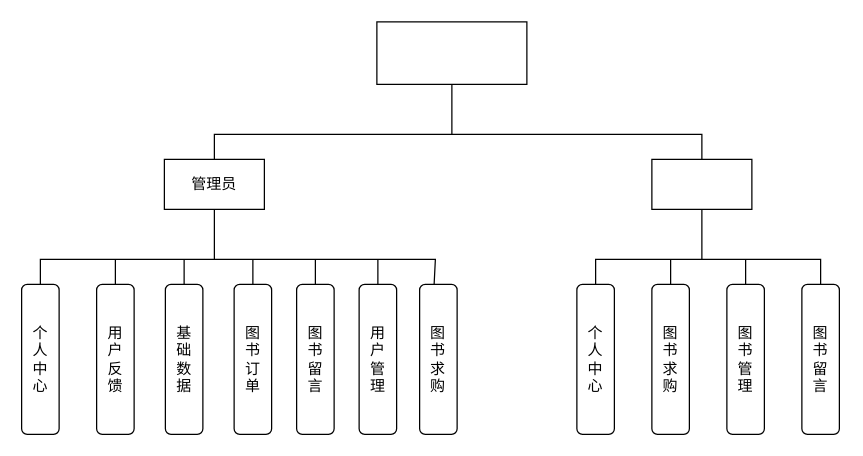
The diagram is 863 pixels wide and 456 high, and some of its shapes have lost their labels. Each missing label, with the centre of its shape:
"用户" goes at [701,183].
"高校二手书流通平台" goes at [451,52].
